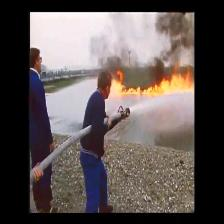fire: (110, 79, 192, 96)
